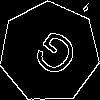G: (24, 27, 82, 87)
